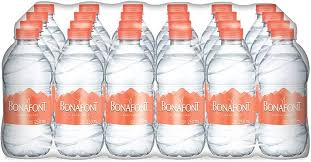Botella: (2, 0, 311, 162)
